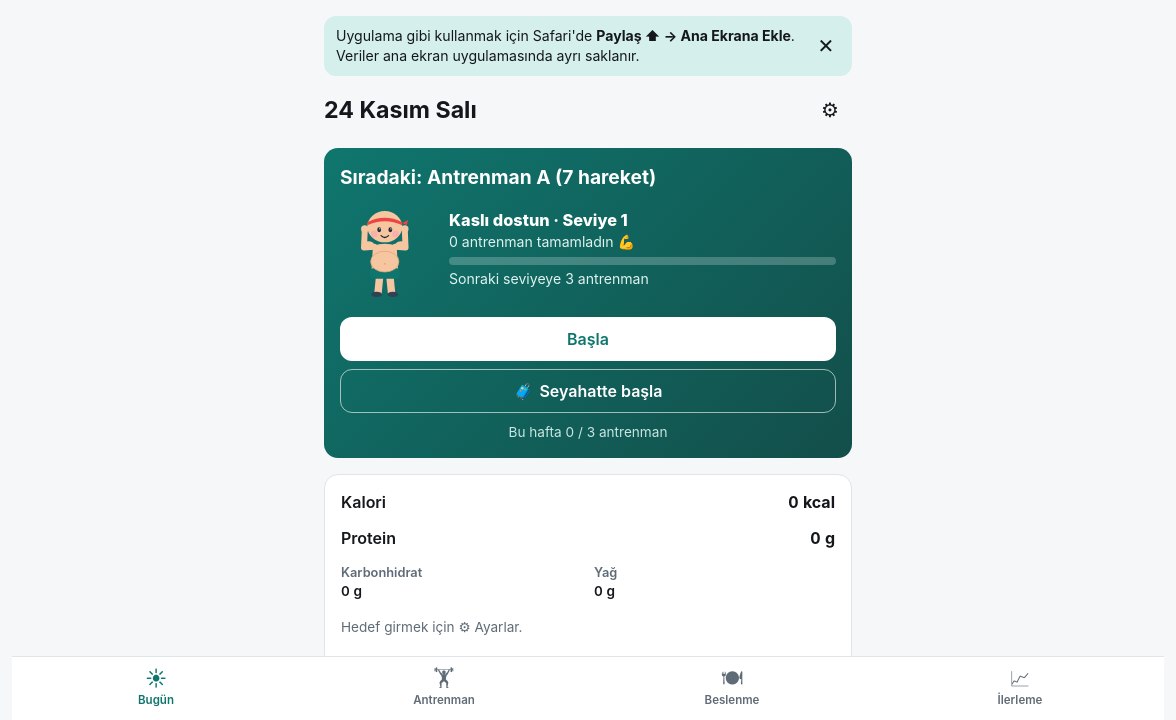
Test case: Bugün ekranındaki "Seyahatte başla" seyahat antrenmanını açar
The width and height of the screenshot is (1176, 720).
Click the button "🧳 Seyahatte başla": x=588, y=391 [340,369,836,413]
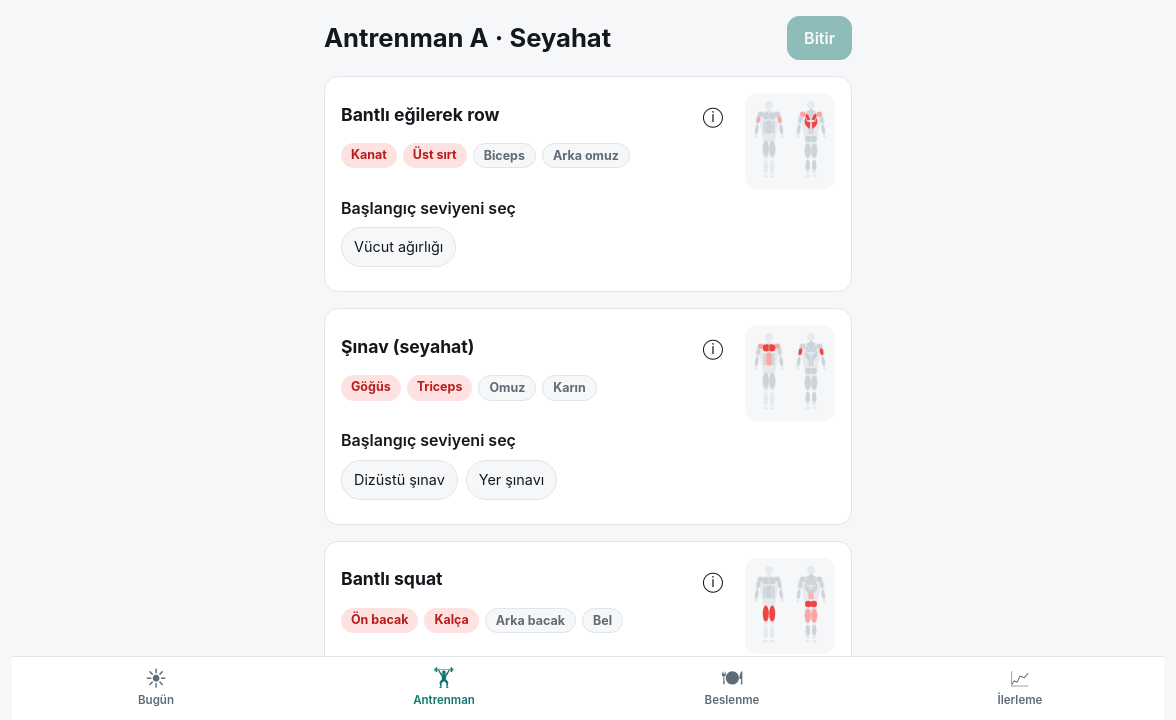
Check: the heading "Antrenman A · Seyahat" is shown, box [324,20,611,56]
